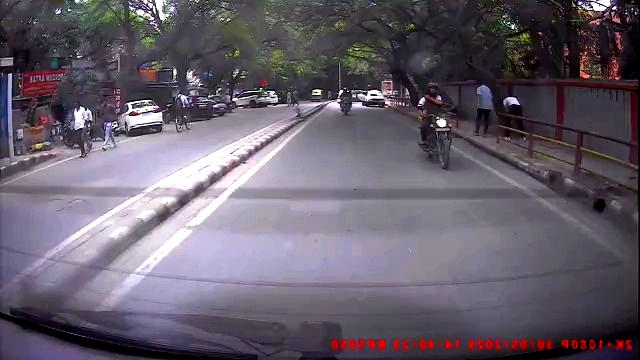motorcycle_with_helmet: (418, 79, 451, 170)
